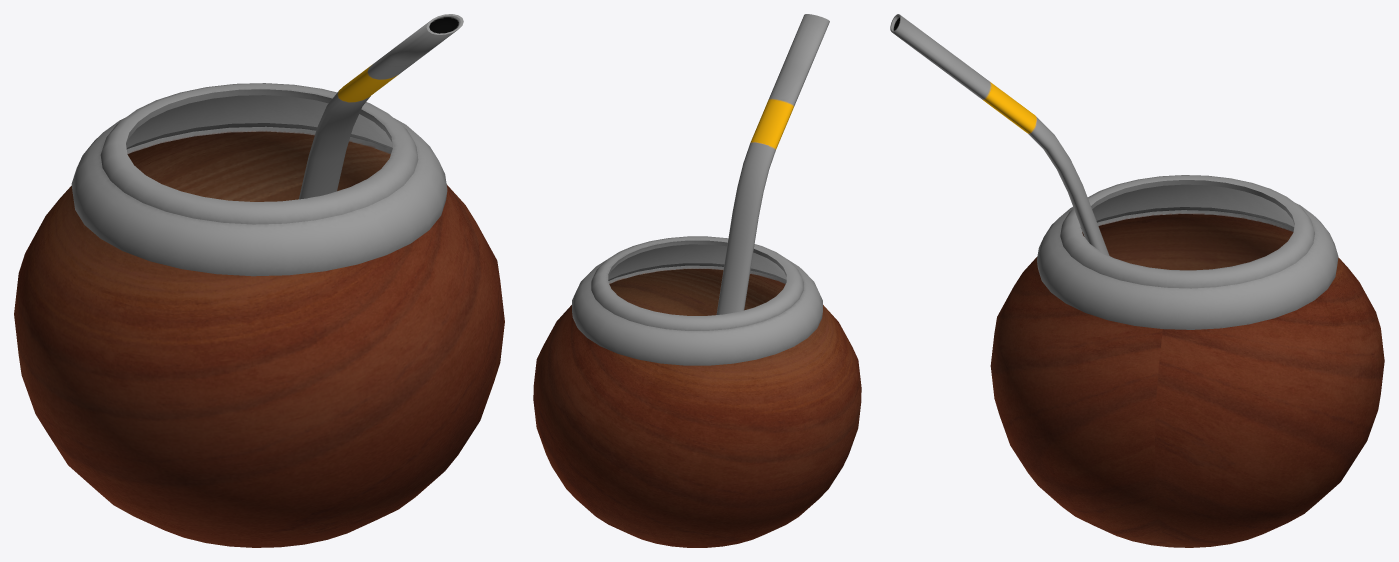
The model's file is Mate.fbx.
The picture shows the model from 3 angles, left to right: view 1: azimuth 30°, elevation 25°; view 2: azimuth 150°, elevation 25°; view 3: azimuth 270°, elevation 25°; orthographic projection. The views are drawn at different scales.
Visible parts, largest first — view 1: Mate, Bombilla; view 2: Mate, Bombilla; view 3: Mate, Bombilla.
Part boxes in pixels (box(x1,y1,x2,y2)): Mate: box(14, 83, 504, 547); Bombilla: box(299, 14, 463, 199); Mate: box(533, 236, 861, 547); Bombilla: box(716, 14, 829, 314); Mate: box(990, 175, 1384, 547); Bombilla: box(890, 14, 1109, 255).
Size of the model in its own units: 211 by 288 by 265.
1 material, 1 textured.
